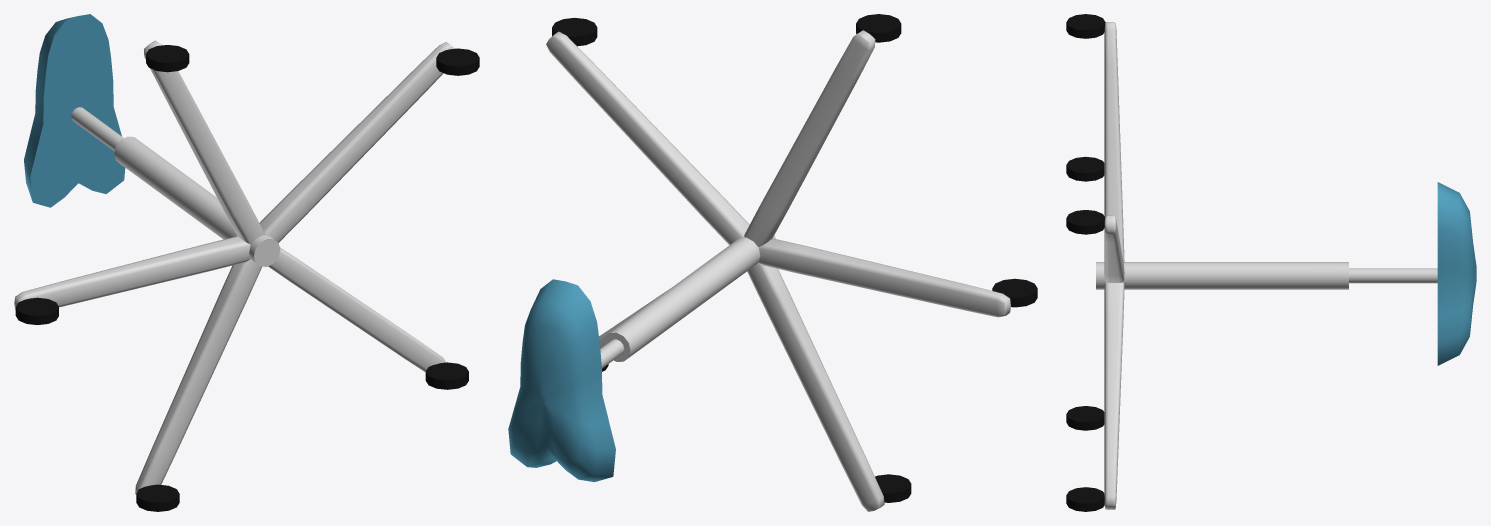
The picture shows the model from 3 angles, left to right: view 1: azimuth 30°, elevation 25°; view 2: azimuth 150°, elevation 25°; view 3: azimuth 270°, elevation 25°; orthographic projection. The views are drawn at different scales.
Parts seen in each view (by area): view 1: Circle; view 2: Circle; view 3: Circle.
Part boxes in pixels (x1=…): Circle: x1=14, y1=14, x2=479, y2=511; Circle: x1=508, y1=14, x2=1037, y2=511; Circle: x1=1066, y1=14, x2=1476, y2=511.
Size of the model in its own units: 113 by 107 by 96.51.
